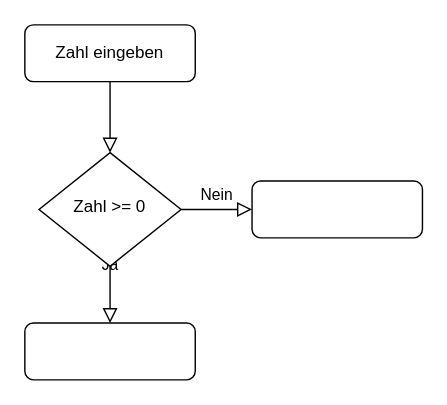
This 447x405 diagram has some shape labels left out. The box of each missing label's shape, as (x1, y1, x2, y2) in pixels:
Fehlermeldung: (251, 180, 422, 238)
Wurzel berechnen: (23, 322, 195, 380)
